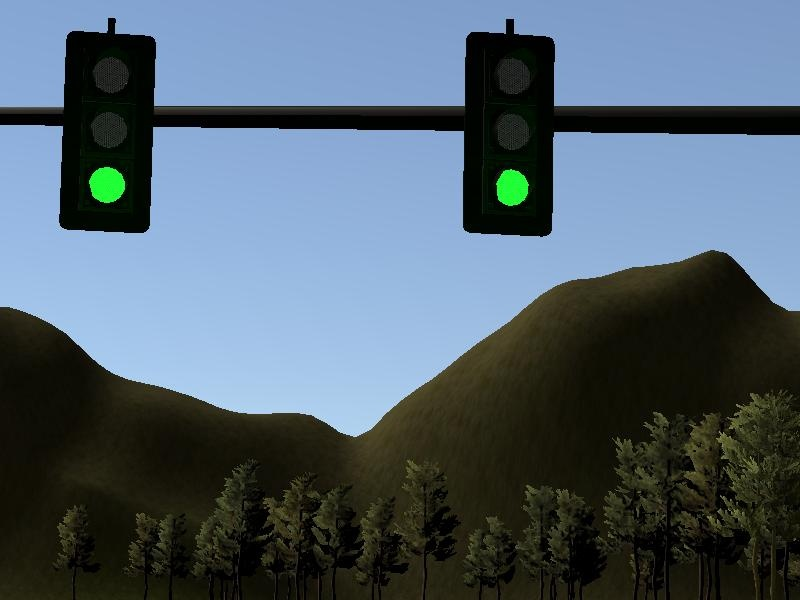GREEN: (61, 32, 155, 232), (460, 33, 554, 233)
